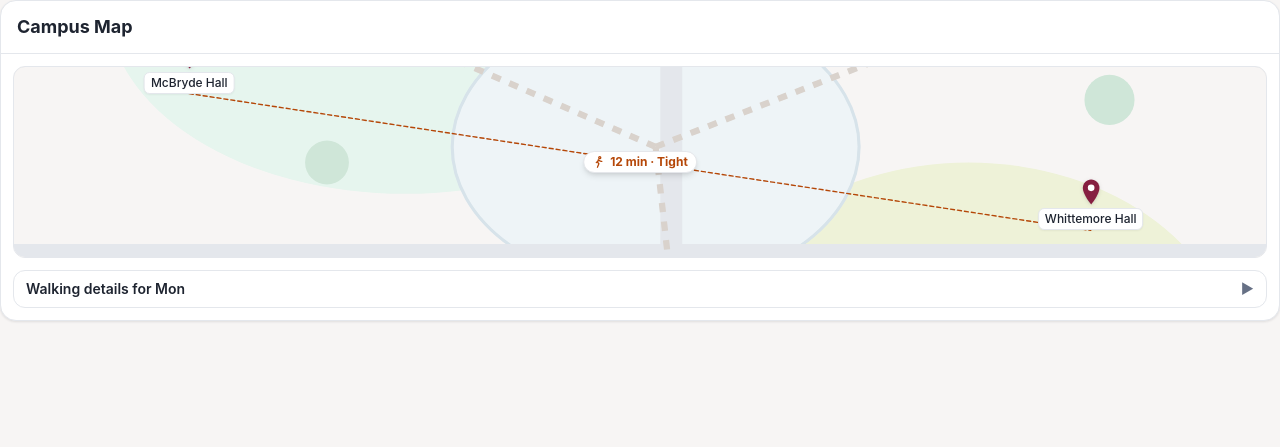
it: CampusMap › opens the backend's warning sentence when a walk chip is clicked
Click the button with aria-label "CS 3114 to CS 2505" at (640, 162), box [583,151,697,173]
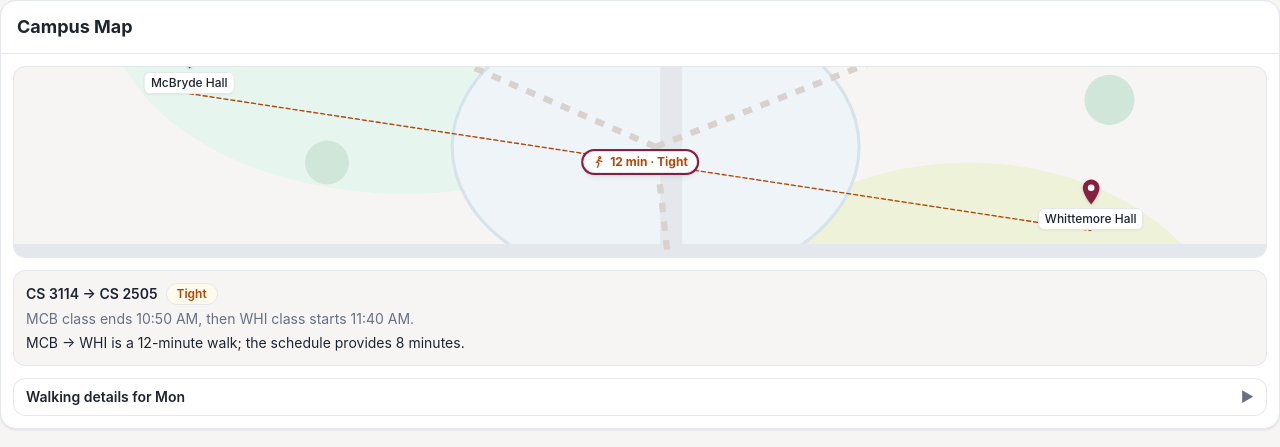
Check: the element with test id "transition-details" shows "CS 3114 → CS 2505", box [13,270,1267,366]
Check: the element with test id "transition-details" shows "Tight", box [176,286,207,301]
Check: the element with test id "transition-details" shows "MCB -> WHI is a 12-minute walk; the schedule provides 8 minutes.", box [26,334,465,351]
Click the button with aria-label "CS 3114 to CS 2505" at (640, 162), box [583,151,697,173]
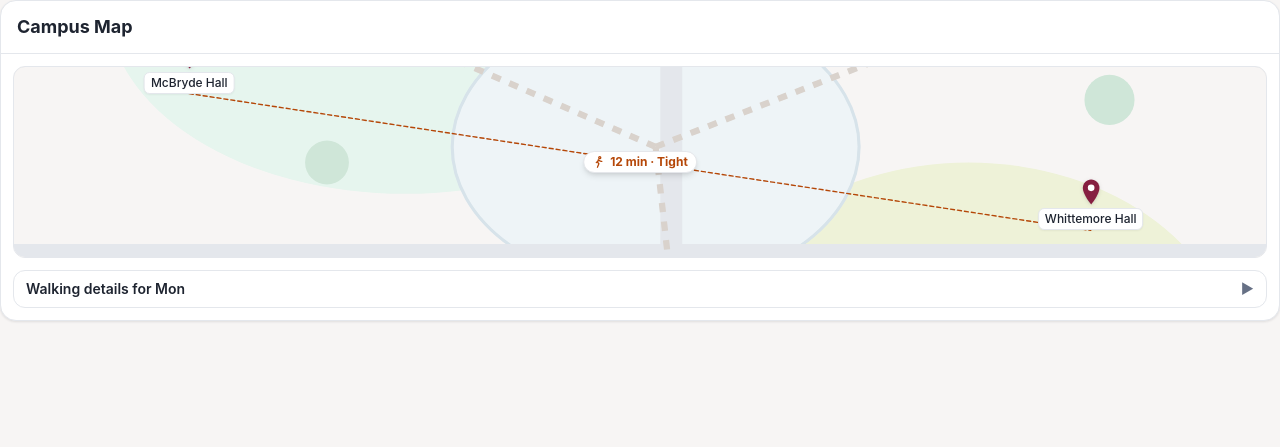
Check: the element with test id "transition-details" is gone
